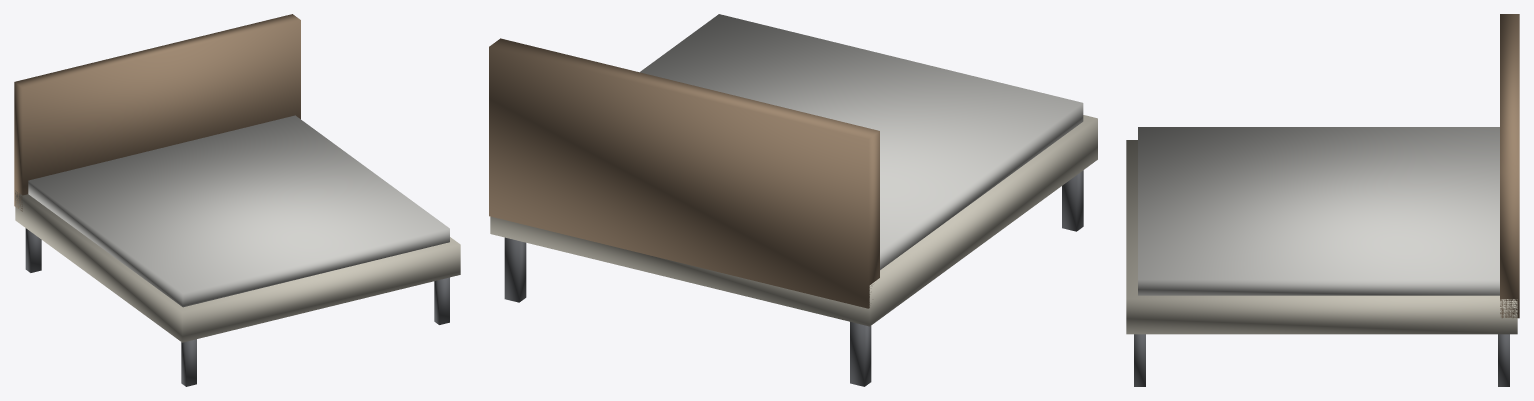
File: double_bed__wide.glb
3 views of the same model, side by side, from view 1: azimuth 30°, elevation 25°; view 2: azimuth 150°, elevation 25°; view 3: azimuth 270°, elevation 25° (orthographic). The views are drawn at different scales.
Visible parts, largest first — view 1: world; view 2: world; view 3: world.
Part boxes in pixels (x1=…): world: x1=14, y1=14, x2=460, y2=386; world: x1=489, y1=14, x2=1097, y2=386; world: x1=1126, y1=14, x2=1519, y2=386.
Size of the model in its own units: 1.92 by 1.23 by 2.01.
